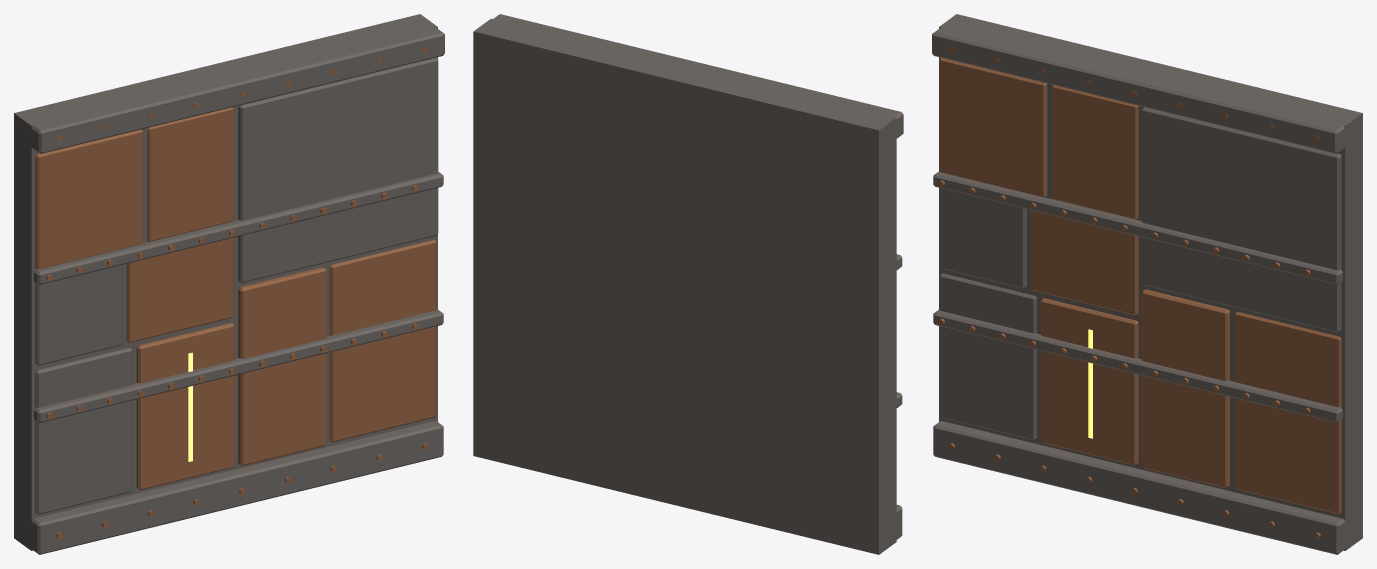
The model's file is wall_wk_plate.glb.
The picture shows the model from 3 angles, left to right: view 1: azimuth 30°, elevation 25°; view 2: azimuth 150°, elevation 25°; view 3: azimuth 330°, elevation 25°; orthographic projection.
Parts seen in each view (by area): view 1: wall_wk_plate; view 2: wall_wk_plate; view 3: wall_wk_plate.
Boxes of the visible parts, x1=… form: wall_wk_plate: x1=14, y1=14, x2=444, y2=554; wall_wk_plate: x1=473, y1=14, x2=903, y2=554; wall_wk_plate: x1=932, y1=14, x2=1362, y2=554.
Size of the model in its own units: 4 by 4 by 0.445.
